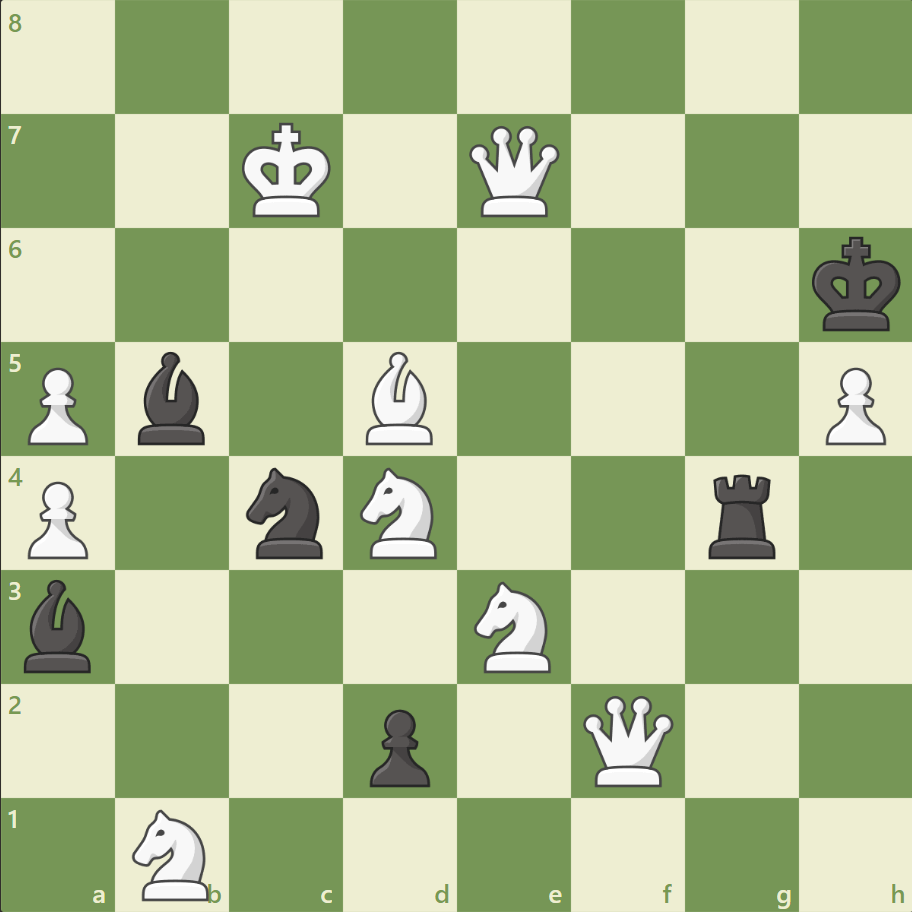B: (358, 347, 442, 449)
K: (238, 117, 338, 225)
N: (351, 461, 449, 564), (124, 802, 222, 904), (465, 575, 562, 677)
P: (20, 359, 95, 450), (20, 473, 95, 564), (815, 359, 889, 450)
Q: (464, 122, 563, 222), (578, 690, 677, 789)
b: (131, 347, 215, 449), (17, 574, 101, 676)
k: (806, 231, 906, 339)
n: (238, 461, 335, 564)
p: (361, 700, 435, 791)
r: (700, 466, 783, 563)
